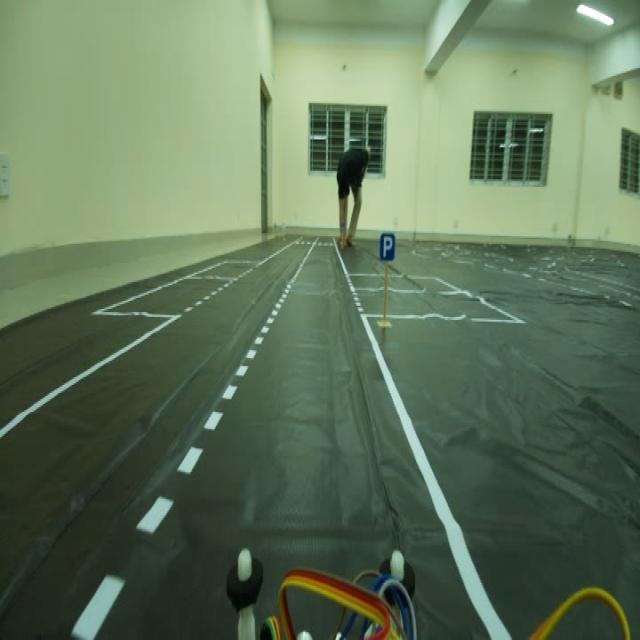parking: (375, 226, 397, 267)
